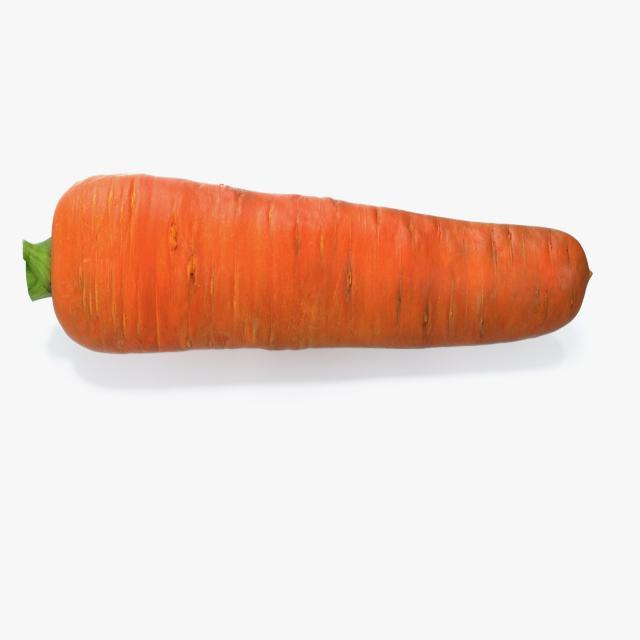carrot: (21, 159, 593, 354)
